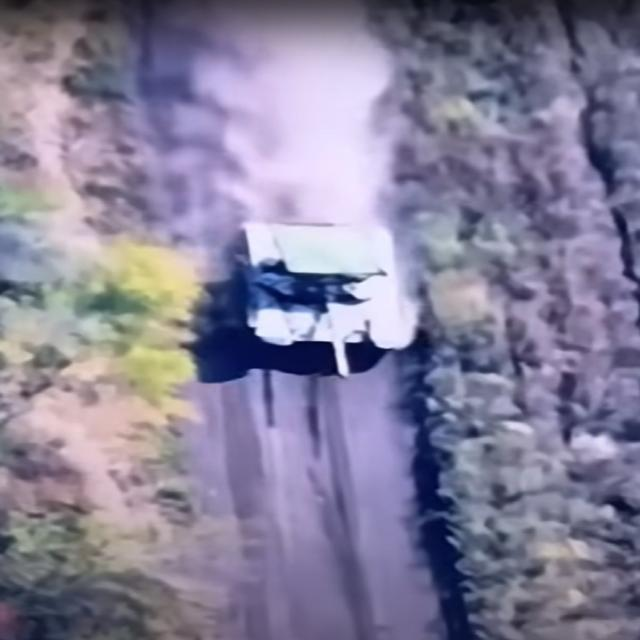MBT: (222, 218, 423, 382)
